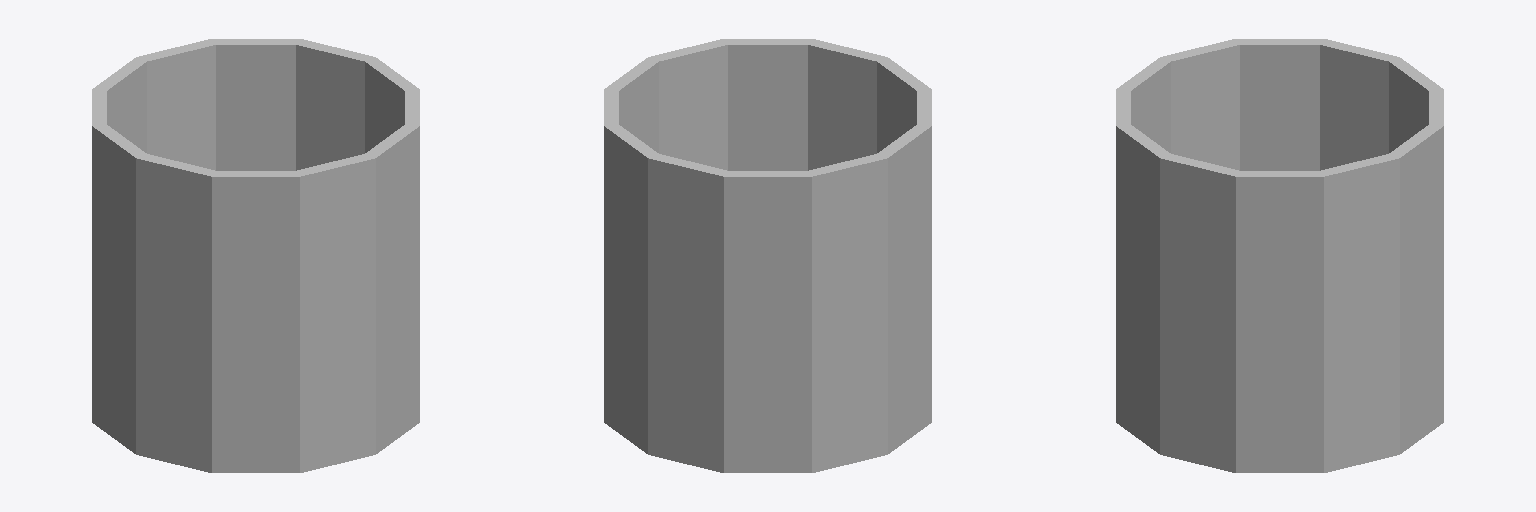
Rendered from chimney.obj.
The picture shows the model from 3 angles: view 1: azimuth 30°, elevation 25°; view 2: azimuth 150°, elevation 25°; view 3: azimuth 270°, elevation 25°; orthographic projection.
Visible parts, largest first — view 1: tube; view 2: tube; view 3: tube.
Part boxes in pixels (x1,y1,x2,y2): tube: (92, 39, 419, 472); tube: (604, 39, 931, 472); tube: (1116, 39, 1443, 472).
Size of the model in its own units: 1 by 1 by 1.